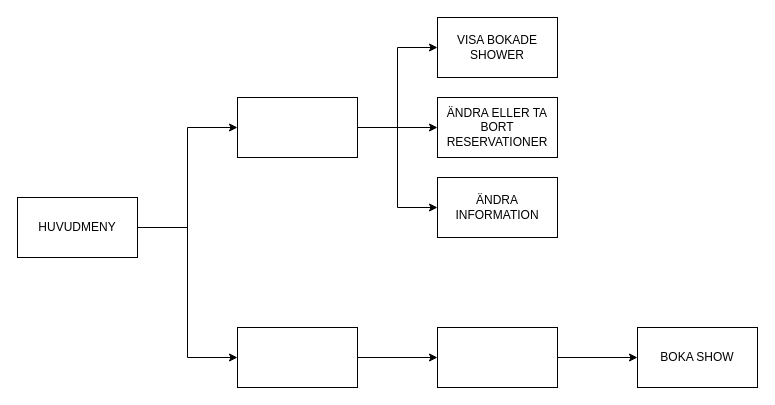
The diagram is 775 pixels wide and 405 high, and some of its shapes have lost their labels. Each missing label, with the centre of its shape:
"INFO" goes at [497,357].
"LOGGA IN" goes at [297,127].
"SHOW INFO" goes at [297,357].
